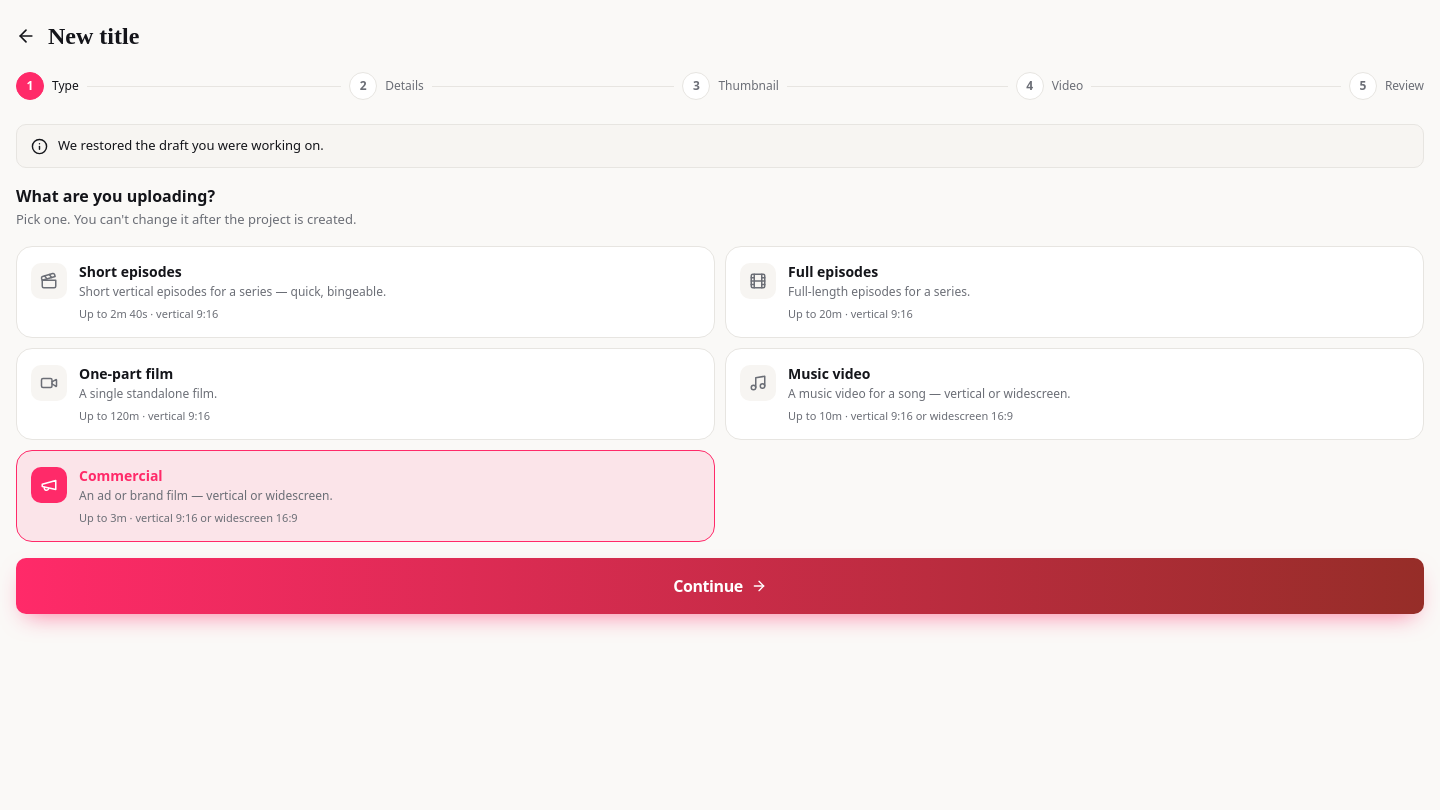
Test: drafts persist and resume at the right step › an unsaved pre-project draft is restored from this device after a refresh
This screenshot has width=1440, height=810.
Expected: the text "We restored the draft you were working on." is shown, [58,136,324,154]
Click the button "Continue" at {"x": 720, "y": 586}, box [16,558,1424,614]
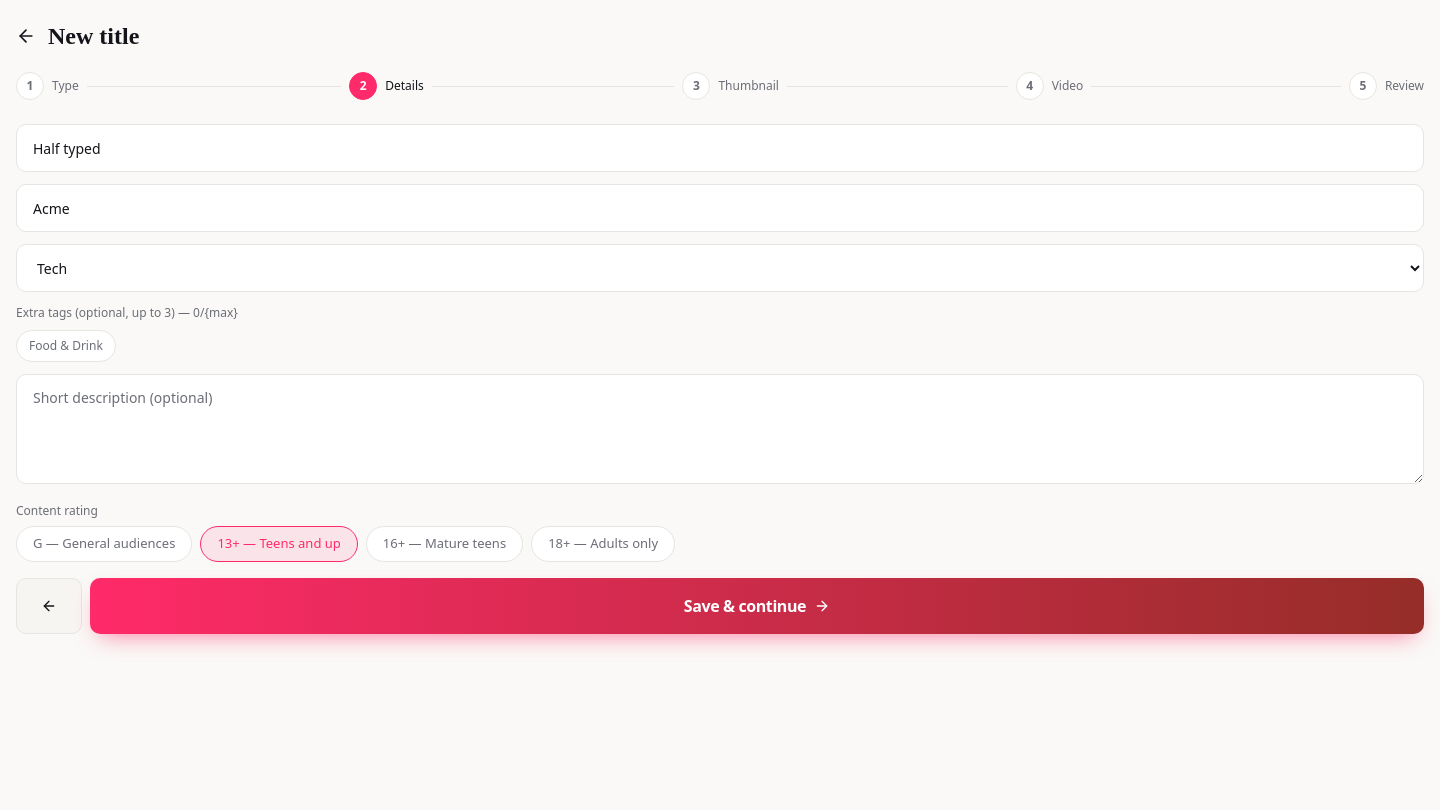
Expected: the field with placeholder "Title" holds "Half typed", [16,124,1424,172]
Expected: the field with placeholder "Brand or advertiser" holds "Acme", [16,184,1424,232]
